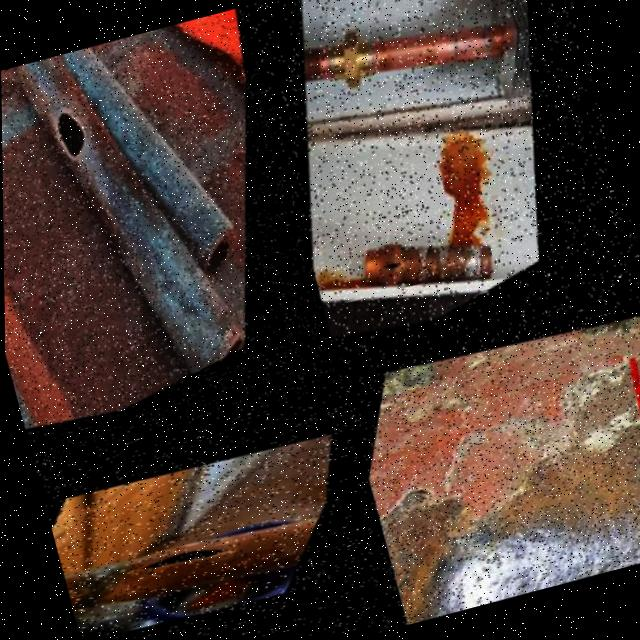hole: (43, 96, 113, 183)
rupture: (128, 526, 262, 592), (374, 244, 419, 290)
